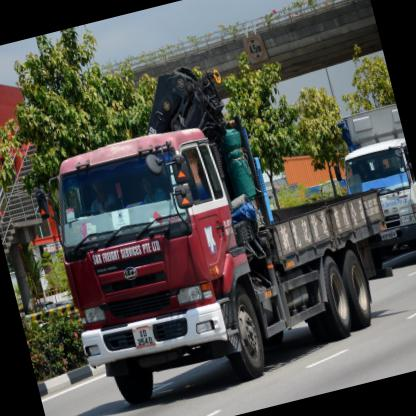truck: (37, 117, 281, 416)
